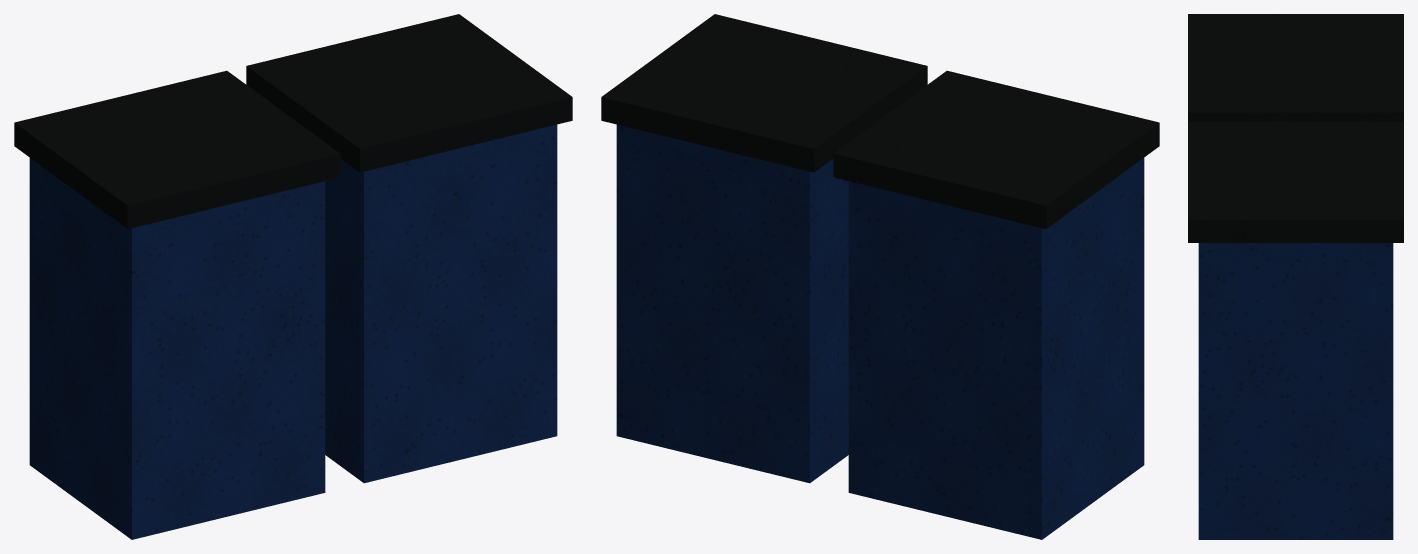
Rendered from PROP-35FB9A42BCE6_lod2.glb.
The picture shows the model from 3 angles, left to right: view 1: azimuth 30°, elevation 25°; view 2: azimuth 150°, elevation 25°; view 3: azimuth 270°, elevation 25°; orthographic projection. The views are drawn at different scales.
Visible parts, largest first — view 1: waste_container.002, bin_lid.002; view 2: waste_container.002, bin_lid.002; view 3: waste_container.002, bin_lid.002.
Part boxes in pixels (bbox=[...]): waste_container.002: bbox=[29, 124, 557, 539]; bin_lid.002: bbox=[14, 14, 572, 228]; waste_container.002: bbox=[616, 124, 1144, 539]; bin_lid.002: bbox=[601, 14, 1159, 228]; waste_container.002: bbox=[1198, 243, 1393, 539]; bin_lid.002: bbox=[1188, 14, 1403, 242].
Bounding box in the file's own units: 1.38 × 1.01 × 0.61.
2 materials, 2 textured.
